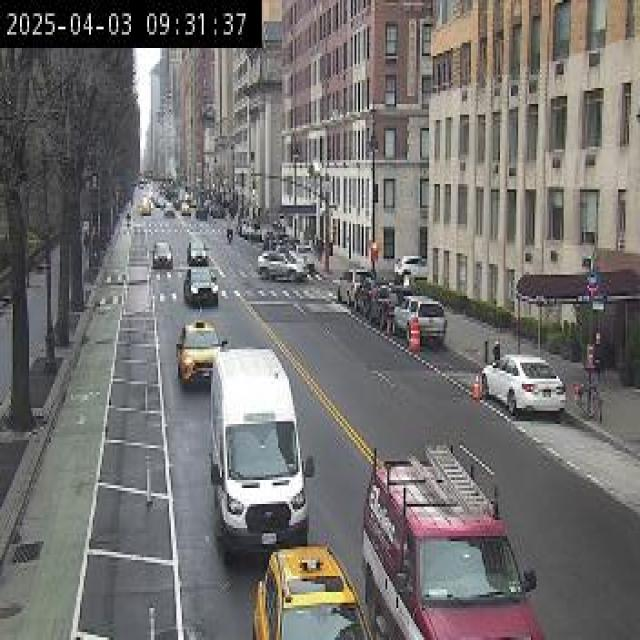open parking: (340, 262, 578, 438)
